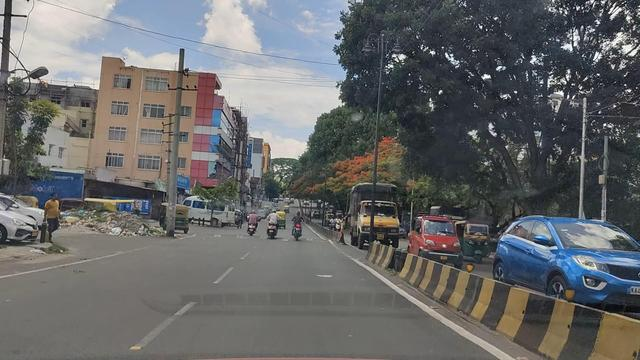RoadDamages: (312, 260, 345, 288)
